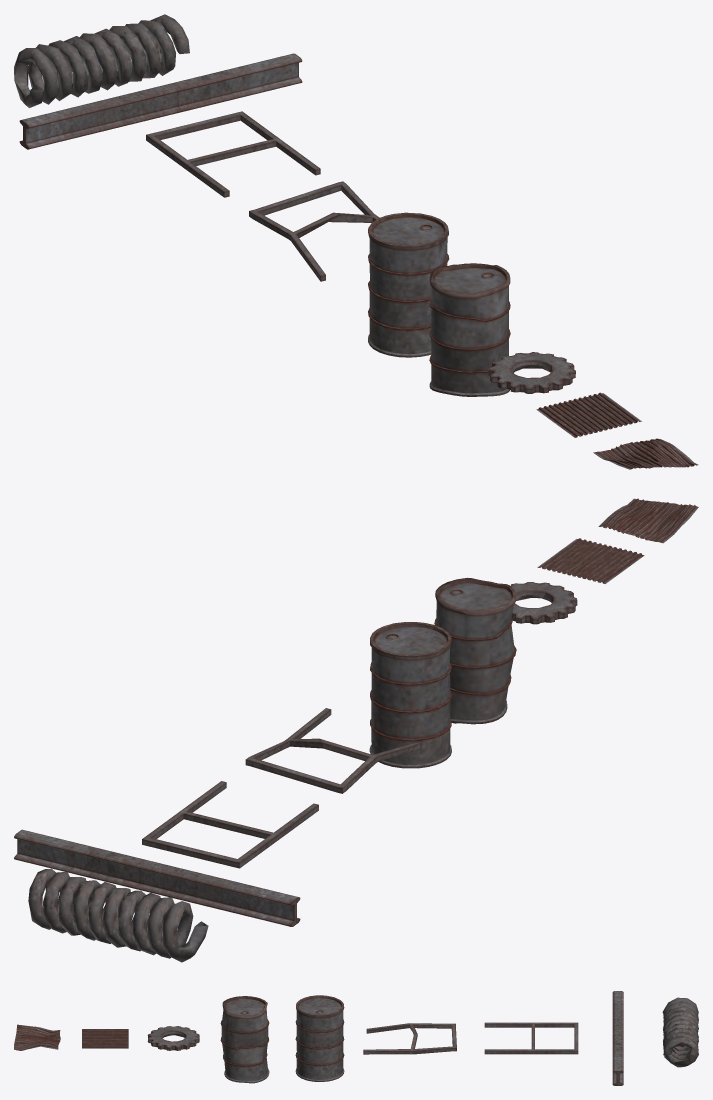
Rendered from junkyard_props.glb.
3 renders of one model, top to bottom at view 1: azimuth 30°, elevation 25°; view 2: azimuth 150°, elevation 25°; view 3: azimuth 270°, elevation 25°, orthographic. The views are drawn at different scales.
Visible parts, largest first — view 1: Barrel v2.001, Metal spring v1.001, Barrel v1 _Barrel v1 low poly_0, Metal plank v1.001, Metal peice 2 v1.001, Metal peice 2 v2.001, Gear v1.001, Metal sheet v1.001, Metal sheet v2.001; view 2: Barrel v1 _Barrel v1 low poly_0, Metal spring v1.001, Barrel v2.001, Metal plank v1.001, Metal peice 2 v1.001, Metal peice 2 v2.001, Metal sheet v1.001, Metal sheet v2.001, Gear v1.001; view 3: Barrel v1 _Barrel v1 low poly_0, Barrel v2.001, Metal spring v1.001, Metal peice 2 v1.001, Metal peice 2 v2.001, Metal plank v1.001, Metal sheet v2.001, Gear v1.001, Metal sheet v1.001.
Boxes of the visible parts, left/top/right/bottom form: Barrel v2.001: left=429, top=263, right=510, bottom=396; Metal spring v1.001: left=14, top=14, right=189, bottom=107; Barrel v1 _Barrel v1 low poly_0: left=368, top=212, right=449, bottom=357; Metal plank v1.001: left=19, top=53, right=302, bottom=149; Metal peice 2 v1.001: left=146, top=111, right=320, bottom=197; Metal peice 2 v2.001: left=249, top=181, right=379, bottom=281; Gear v1.001: left=488, top=352, right=575, bottom=393; Metal sheet v1.001: left=536, top=392, right=641, bottom=437; Metal sheet v2.001: left=593, top=438, right=698, bottom=469; Barrel v1 _Barrel v1 low poly_0: left=369, top=622, right=451, bottom=768; Metal spring v1.001: left=28, top=868, right=208, bottom=962; Barrel v2.001: left=434, top=577, right=516, bottom=724; Metal plank v1.001: left=14, top=829, right=300, bottom=926; Metal peice 2 v1.001: left=142, top=781, right=318, bottom=868; Metal peice 2 v2.001: left=245, top=708, right=421, bottom=793; Metal sheet v1.001: left=537, top=538, right=644, bottom=583; Metal sheet v2.001: left=598, top=498, right=698, bottom=543; Gear v1.001: left=511, top=582, right=577, bottom=624; Barrel v1 _Barrel v1 low poly_0: left=295, top=995, right=344, bottom=1081; Barrel v2.001: left=220, top=996, right=269, bottom=1083; Metal spring v1.001: left=662, top=997, right=698, bottom=1067; Metal peice 2 v1.001: left=484, top=1022, right=578, bottom=1054; Metal peice 2 v2.001: left=363, top=1023, right=456, bottom=1054; Metal plank v1.001: left=612, top=991, right=623, bottom=1085; Metal sheet v2.001: left=14, top=1024, right=60, bottom=1050; Gear v1.001: left=147, top=1026, right=199, bottom=1050; Metal sheet v1.001: left=82, top=1029, right=128, bottom=1048.
Size of the model in its own units: 8.13 by 3.27 by 29.44.
9 materials, 9 textured.
